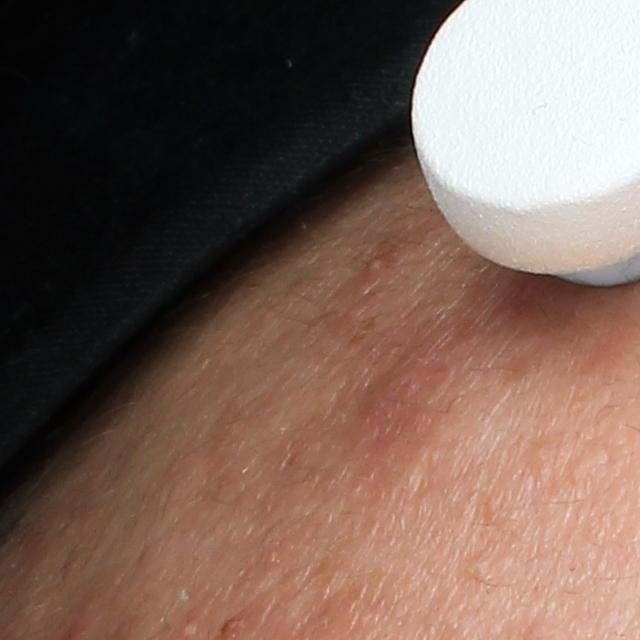comedo: (466, 556, 490, 580), (179, 621, 202, 639)
